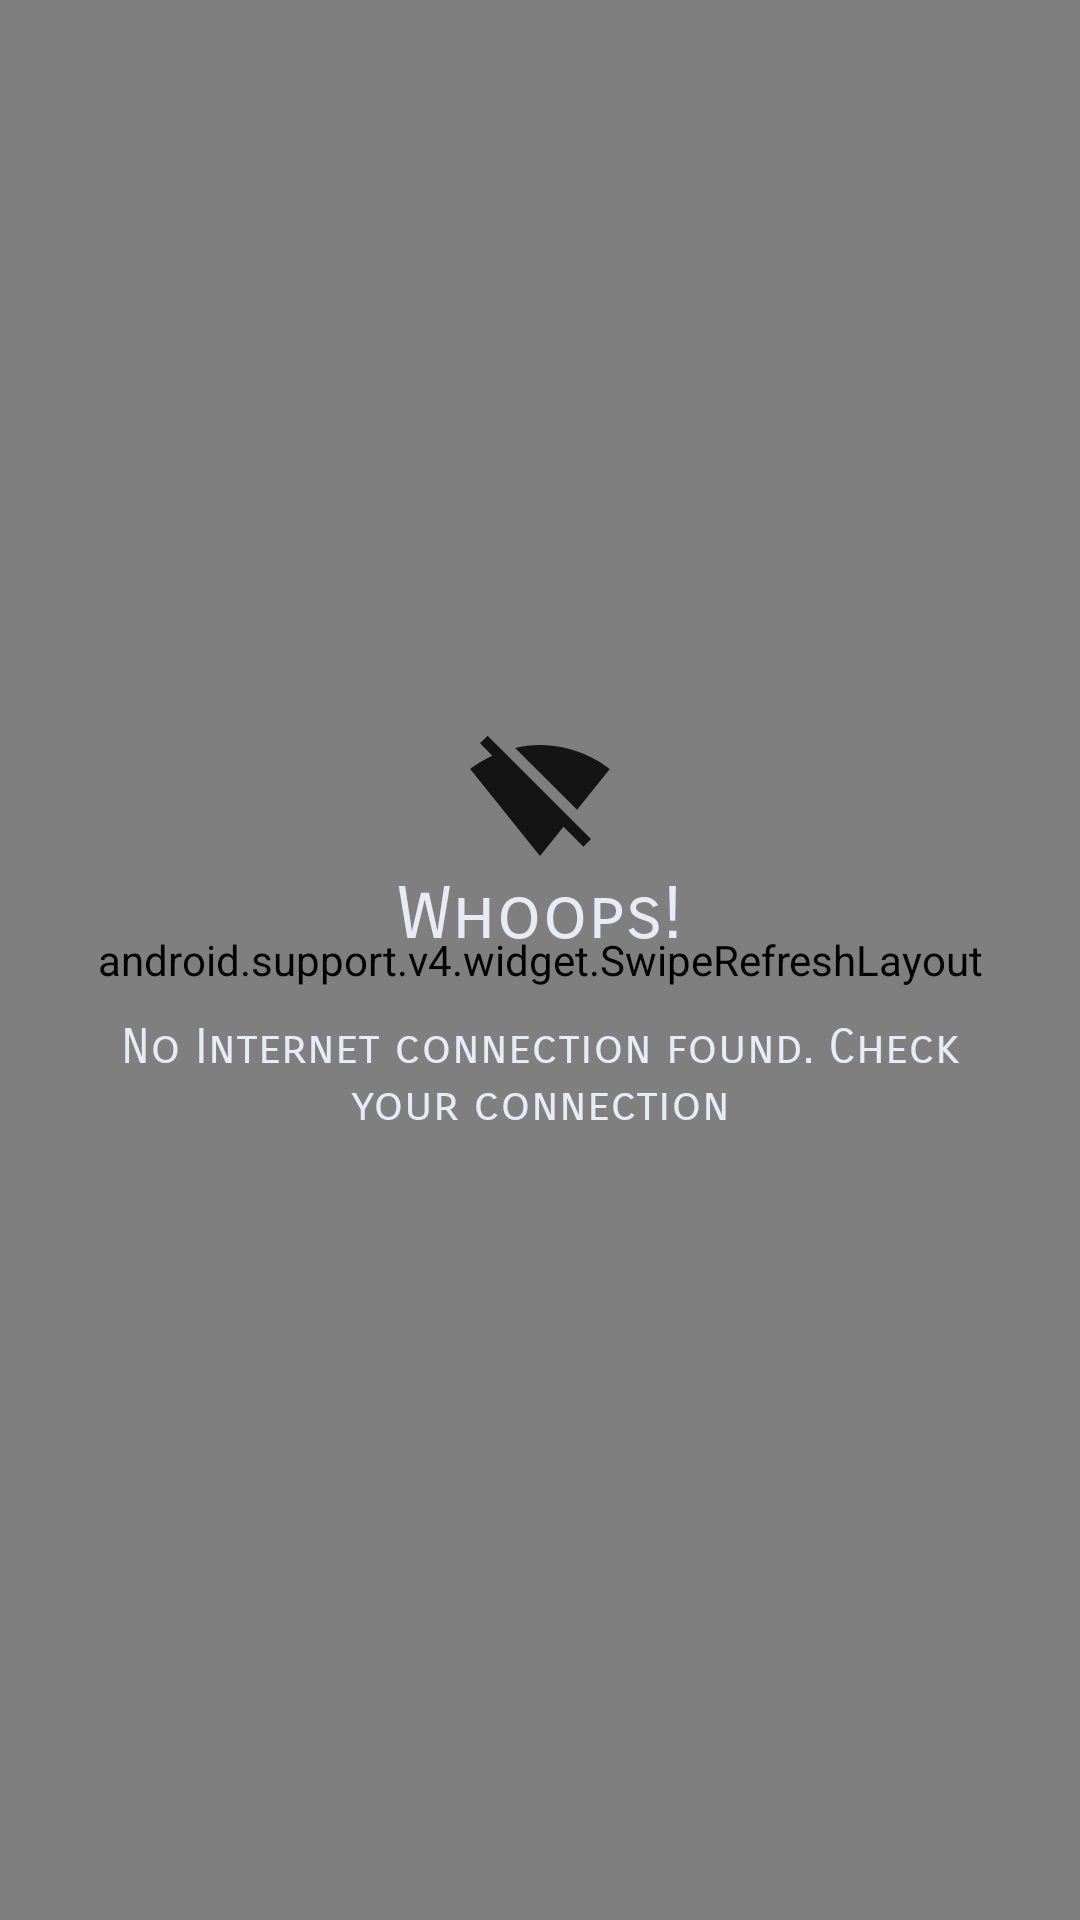

Locate icon controls on the screen. Image size 1080x1920, boxes as (x1, y1, x2, y2).
No Internet pic: (470, 736, 610, 856)
